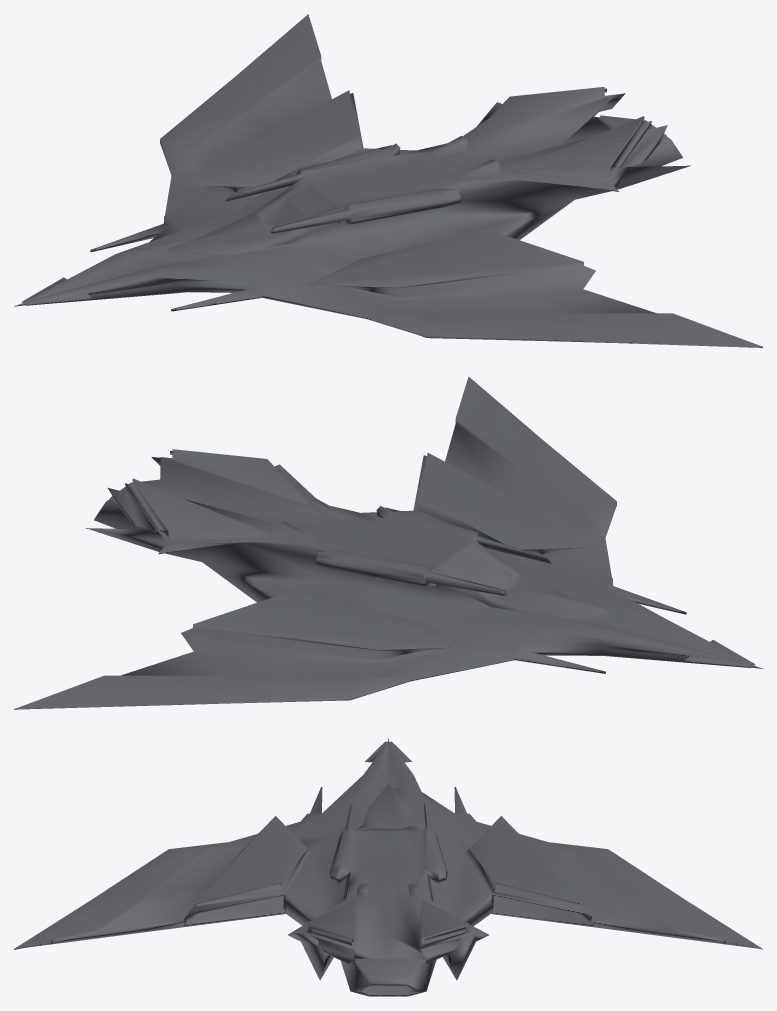
The model's file is jet_by_dommk_polymer.obj.
The picture shows the model from 3 angles, top to bottom: view 1: azimuth 30°, elevation 25°; view 2: azimuth 150°, elevation 25°; view 3: azimuth 270°, elevation 25°; orthographic projection. The views are drawn at different scales.
Visible parts, largest first — view 1: jet; view 2: jet; view 3: jet.
Boxes of the visible parts, x1,y1,x2,y2 form: jet: (14, 14, 762, 347); jet: (14, 376, 762, 709); jet: (14, 738, 762, 996).
Bounding box in the file's own units: 1966 × 201 × 2396.
